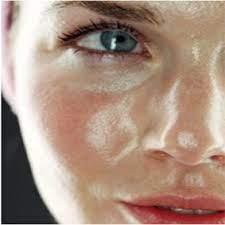Oily-Skin: (25, 63, 221, 187)
